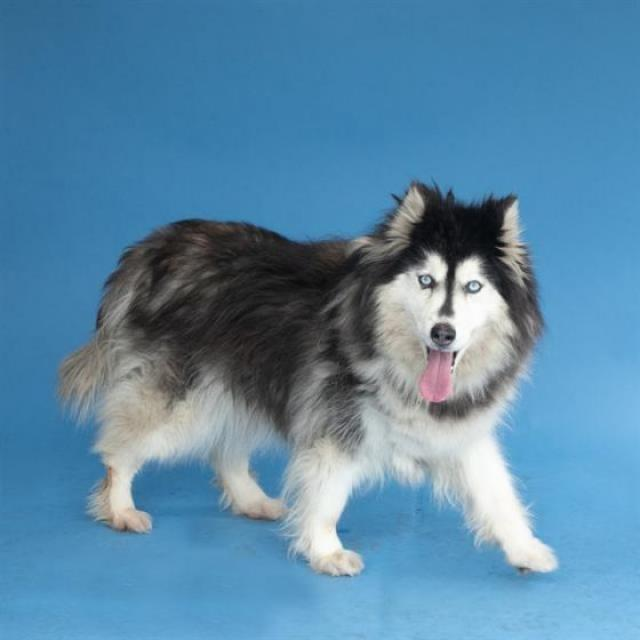siberian_husky_dog: (346, 175, 532, 426)
